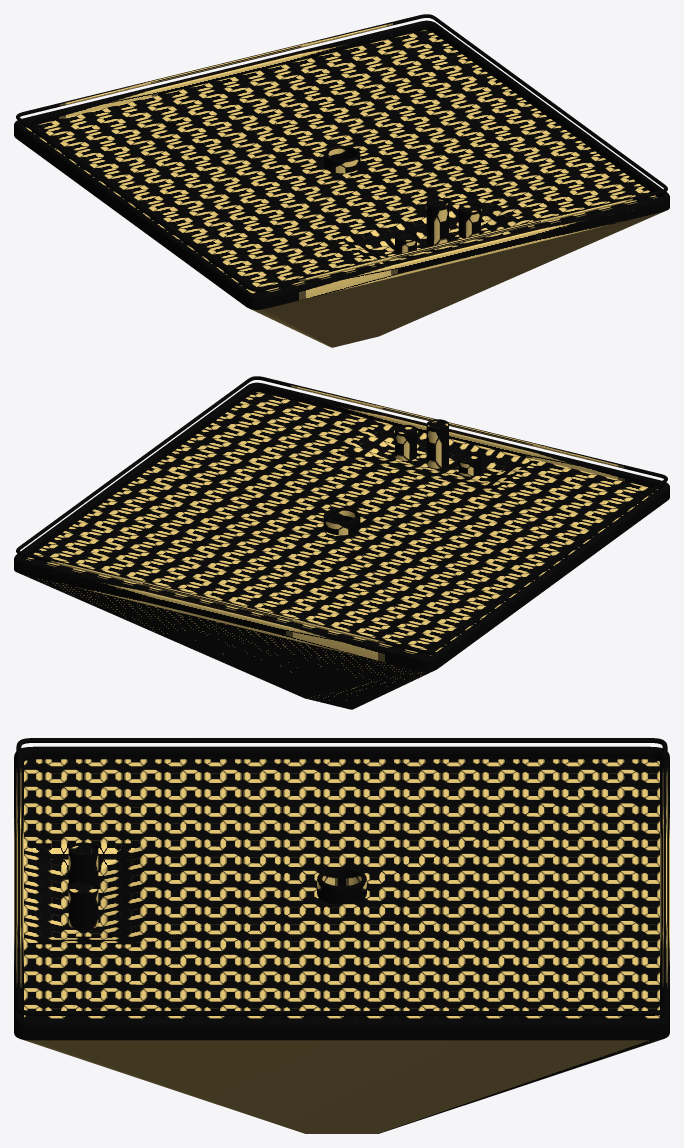
File: award_main.fbx
The picture shows the model from 3 angles, top to bottom: view 1: azimuth 30°, elevation 25°; view 2: azimuth 150°, elevation 25°; view 3: azimuth 270°, elevation 25°; orthographic projection. The views are drawn at different scales.
Visible parts, largest first — view 1: Cube.002; view 2: Cube.002; view 3: Cube.002.
Boxes of the visible parts, x1,y1,x2,y2 form: Cube.002: [14, 14, 669, 347]; Cube.002: [14, 376, 669, 709]; Cube.002: [14, 738, 669, 1133].
Bounding box in the file's own units: 3300 × 1494 × 3300.
